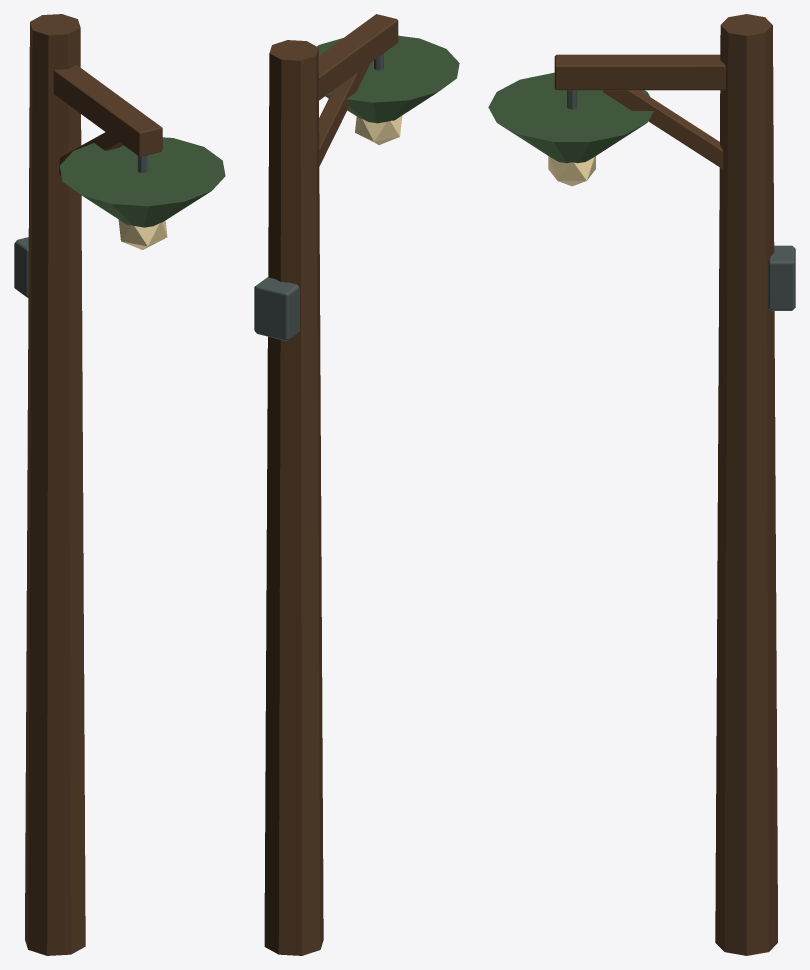
The model's file is LampPost.glb.
The picture shows the model from 3 angles, left to right: view 1: azimuth 30°, elevation 25°; view 2: azimuth 150°, elevation 25°; view 3: azimuth 270°, elevation 25°; orthographic projection. The views are drawn at different scales.
Parts seen in each view (by area): view 1: LampPost.001; view 2: LampPost.001; view 3: LampPost.001.
Part boxes in pixels (x1,y1,x2,y2): LampPost.001: (14, 14, 225, 955); LampPost.001: (254, 14, 459, 955); LampPost.001: (488, 14, 795, 955).
Size of the model in its own units: 0.468 by 2.9 by 0.88.
